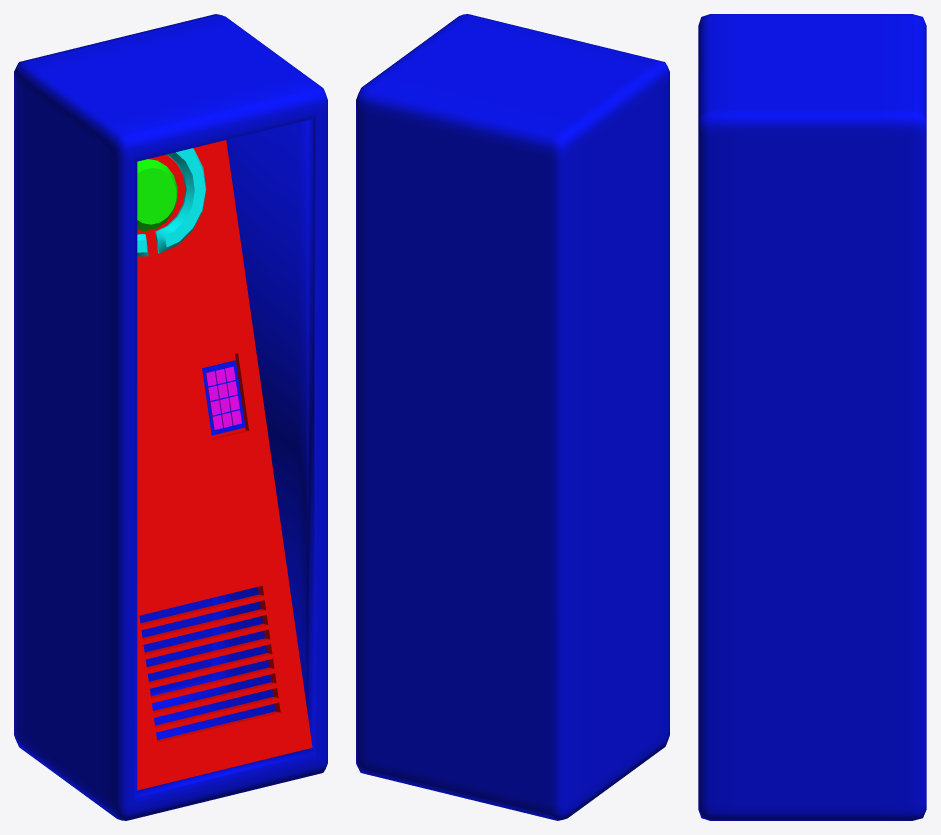
File: SM_BrokenLocker.FBX
3 renders of one model, left to right at view 1: azimuth 30°, elevation 25°; view 2: azimuth 150°, elevation 25°; view 3: azimuth 270°, elevation 25°, orthographic. The views are drawn at different scales.
Parts seen in each view (by area): view 1: Locker001; view 2: Locker001; view 3: Locker001.
Part boxes in pixels (<box>): Locker001: <box>14,14,327,820</box>; Locker001: <box>356,14,669,820</box>; Locker001: <box>698,14,926,820</box>.
Bounding box in the file's own units: 63.98 × 200 × 58.44.
